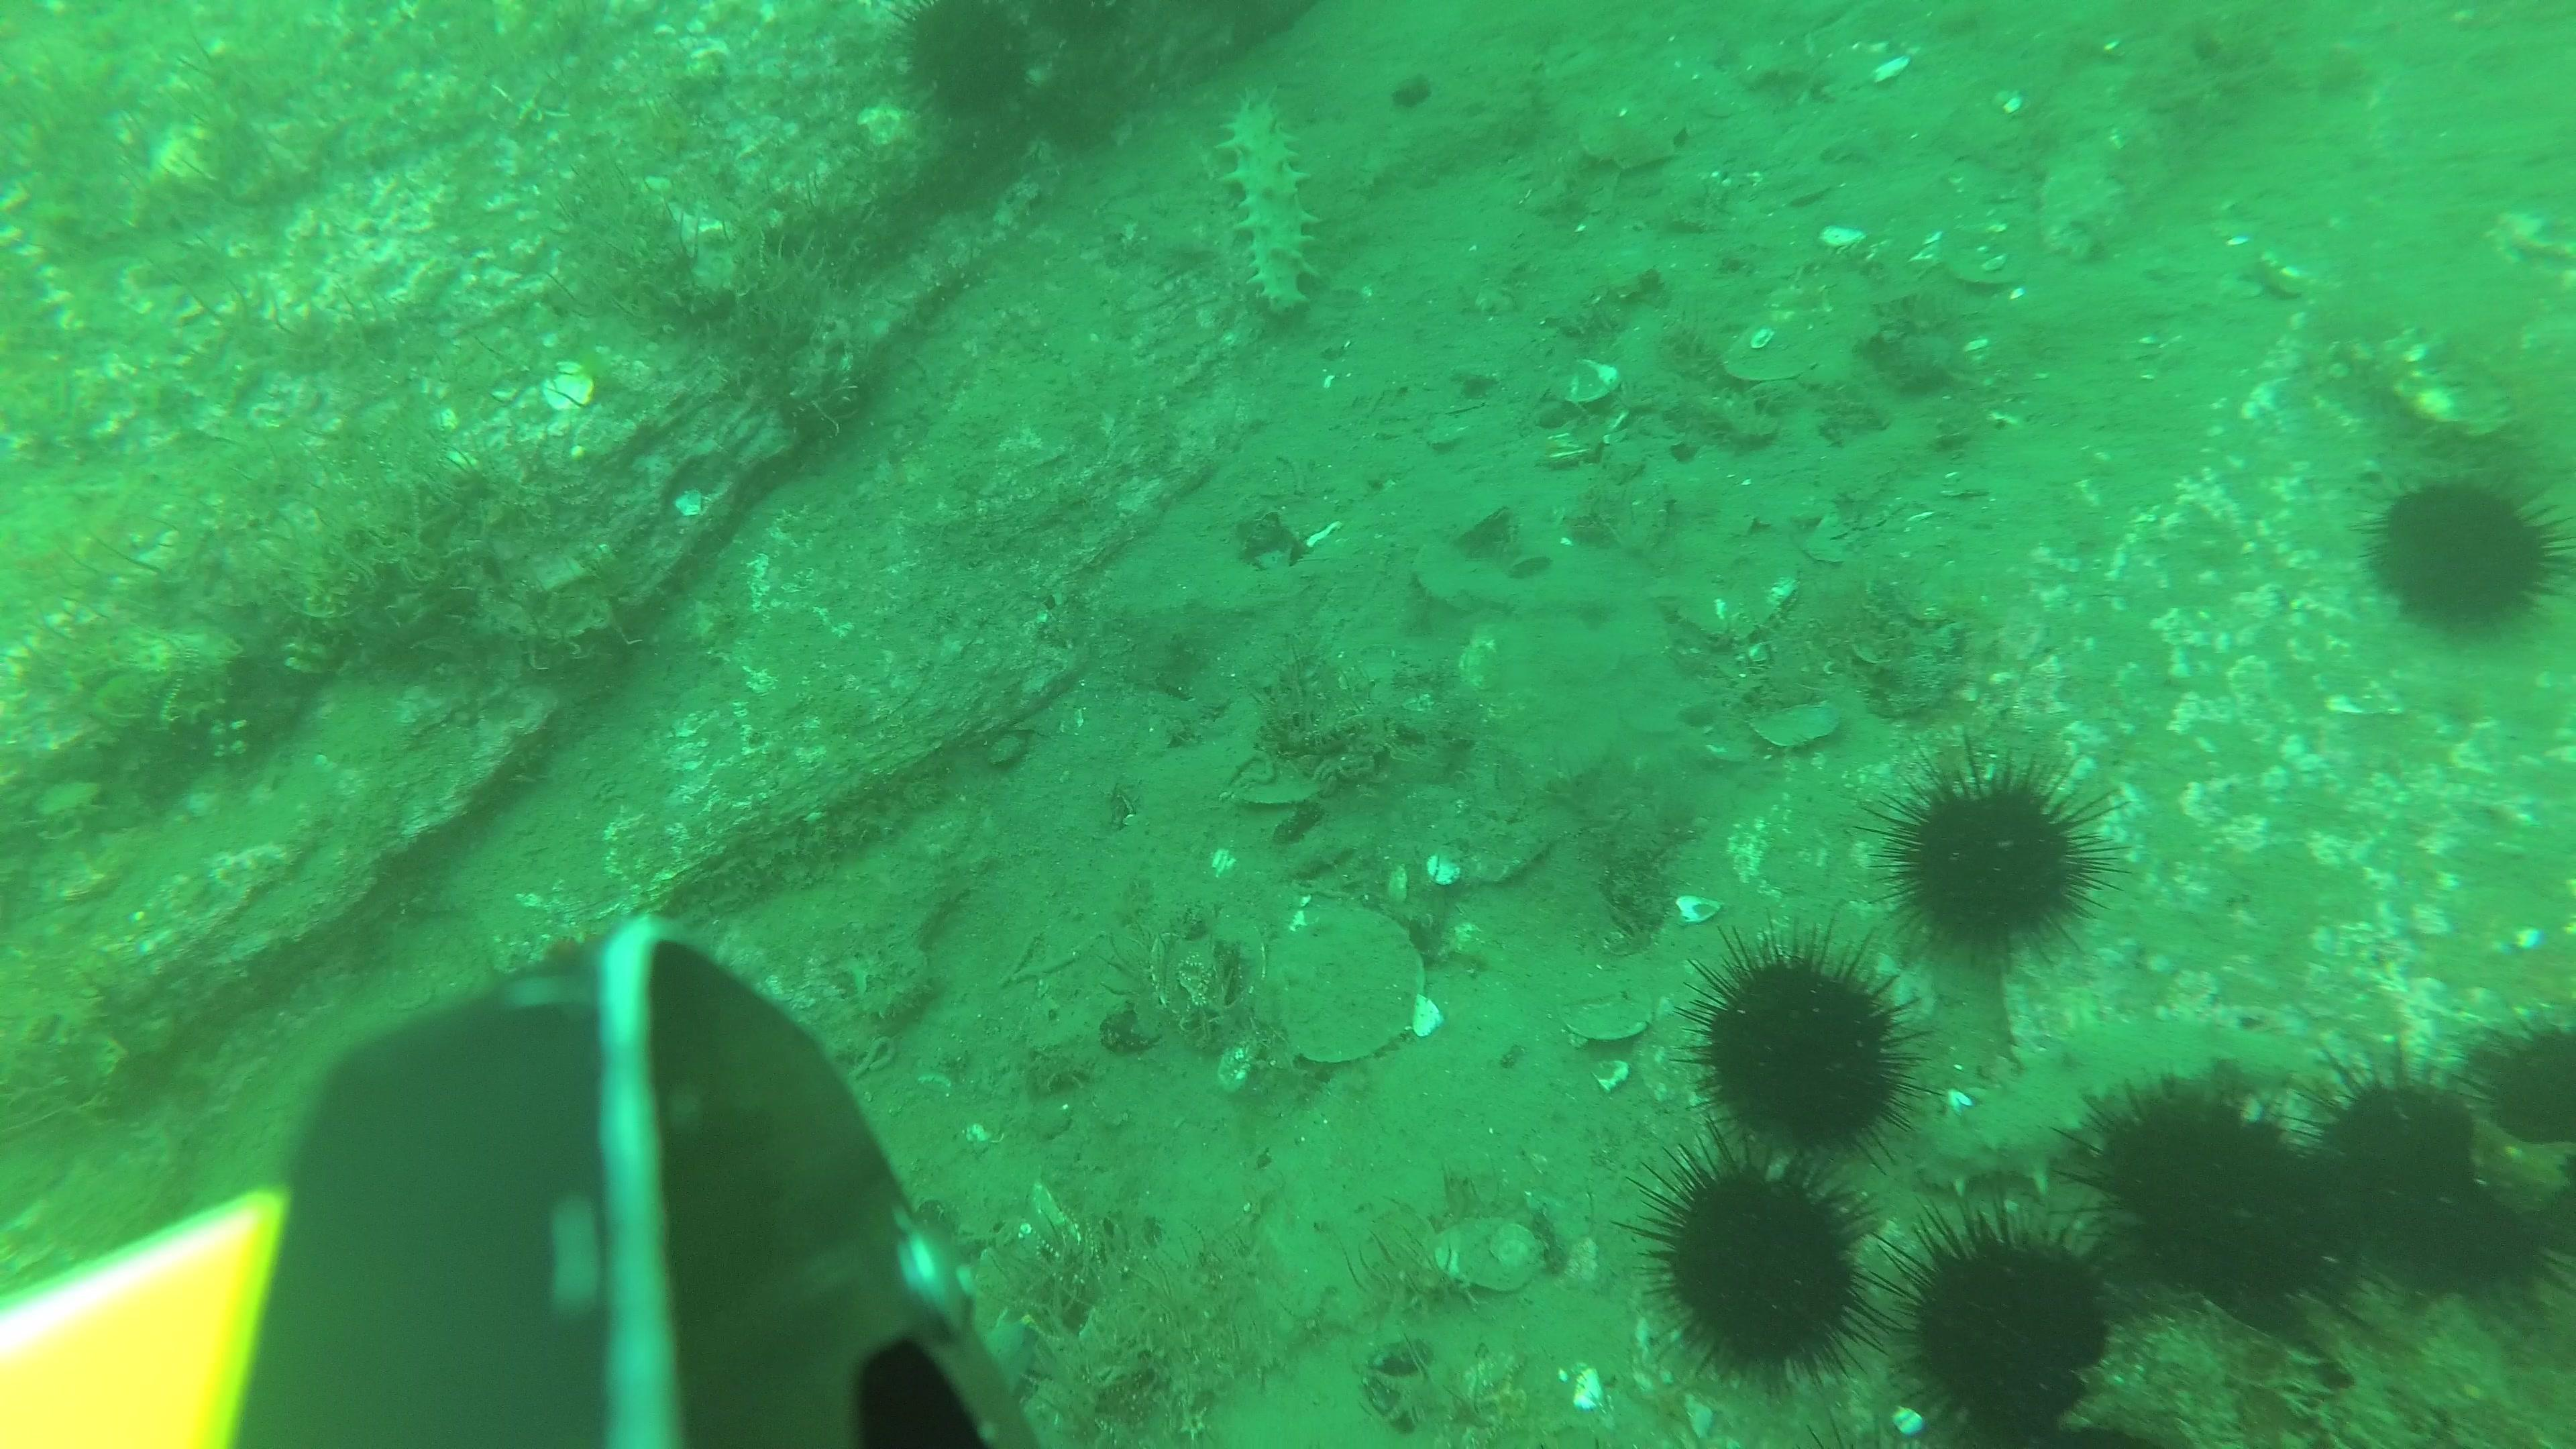echinus: (1617, 1118, 1897, 1408), (2068, 1069, 2341, 1322), (1684, 916, 1937, 1171), (1863, 727, 2118, 977), (1884, 1192, 2121, 1449), (2295, 1060, 2523, 1304), (2348, 465, 2576, 651), (2459, 1005, 2576, 1272), (897, 0, 1040, 138), (1028, 0, 1132, 44)
holothurian: (1923, 1017, 2341, 1192), (1210, 90, 1320, 317)
scallop: (1270, 906, 1428, 1067), (1435, 1214, 1552, 1297), (1578, 101, 1683, 172), (1559, 982, 1658, 1047)
